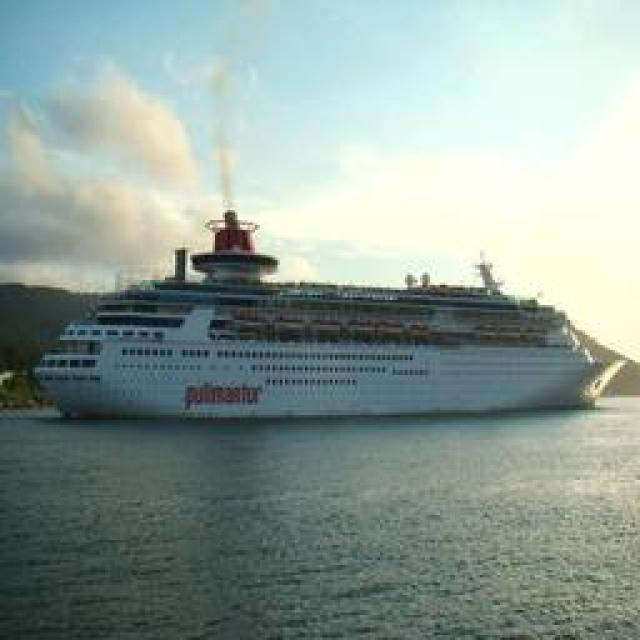CIV_Ship: (16, 258, 626, 422)
